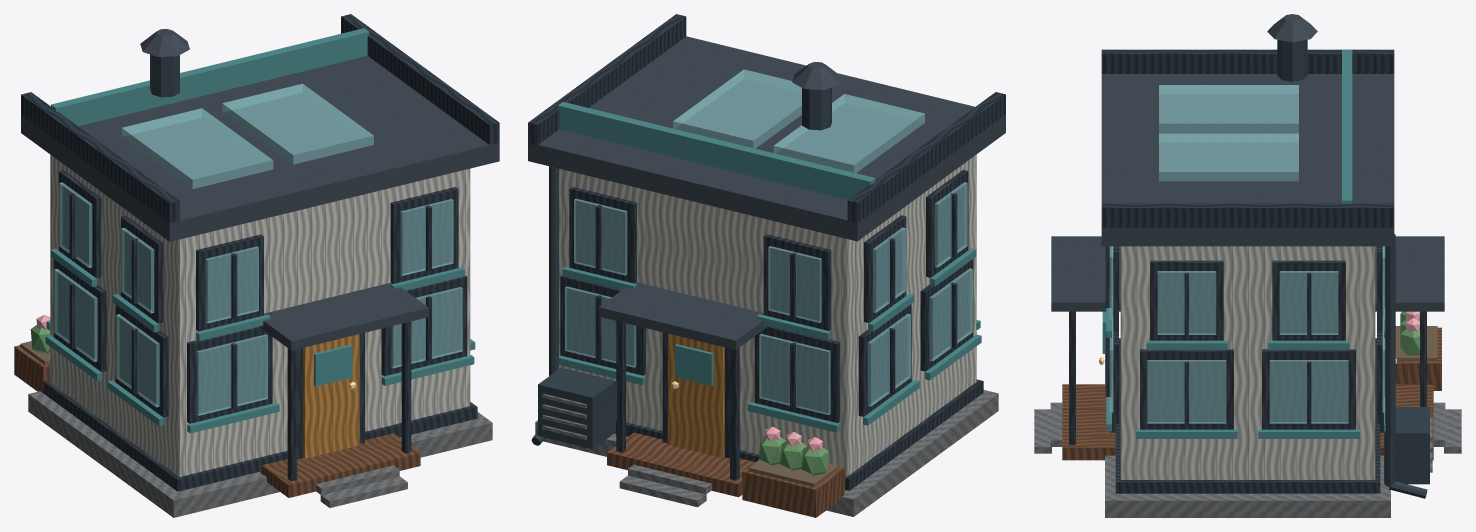
File: house_modern_lv2.glb
The picture shows the model from 3 angles, left to right: view 1: azimuth 30°, elevation 25°; view 2: azimuth 150°, elevation 25°; view 3: azimuth 270°, elevation 25°; orthographic projection.
Visible parts, largest first — view 1: flat_roof, walls, foundation, roof_terrace, solar_panel, solar_panel.001, front_porch_canopy, front_window_frame, front_window_frame.003, floor_trim, front_door, front_window_frame.002 (+33 smaller); view 2: flat_roof, walls, roof_terrace, solar_panel, solar_panel.001, back_window_frame, back_porch_canopy, foundation, back_window_frame.002, back_door, back_window_frame.003, parapet (+39 smaller); view 3: flat_roof, walls, foundation, parapet.001, right_window_frame, right_window_frame.001, solar_panel.001, solar_panel, parapet, right_window_frame.002, right_window_frame.003, right_window_glass (+29 smaller).
Part boxes in pixels (x1,y1,x2,y2): flat_roof: [21, 56, 499, 241]; walls: [50, 155, 470, 476]; foundation: [28, 391, 492, 517]; roof_terrace: [51, 28, 369, 126]; solar_panel: [121, 108, 273, 188]; solar_panel.001: [222, 83, 373, 164]; front_porch_canopy: [259, 282, 428, 350]; front_window_frame: [187, 326, 272, 423]; front_window_frame.003: [390, 187, 458, 283]; floor_trim: [43, 380, 477, 491]; front_door: [303, 334, 359, 458]; front_window_frame.002: [196, 234, 263, 331]; flat_roof: [528, 36, 1005, 241]; walls: [559, 154, 976, 476]; roof_terrace: [557, 102, 875, 199]; solar_panel: [773, 94, 924, 172]; solar_panel.001: [673, 69, 801, 148]; back_window_frame: [754, 326, 840, 422]; back_porch_canopy: [598, 282, 768, 349]; foundation: [535, 390, 998, 516]; back_window_frame.002: [763, 234, 831, 330]; back_door: [668, 333, 724, 457]; back_window_frame.003: [569, 186, 636, 283]; parapet: [847, 92, 1005, 225]; flat_roof: [1101, 74, 1394, 246]; walls: [1120, 246, 1375, 479]; foundation: [1105, 354, 1390, 517]; parapet.001: [1101, 203, 1394, 230]; right_window_frame: [1140, 349, 1233, 429]; right_window_frame.001: [1262, 349, 1355, 429]; solar_panel.001: [1159, 133, 1298, 181]; solar_panel: [1159, 85, 1298, 132]; parapet: [1101, 49, 1394, 73]; right_window_frame.002: [1150, 260, 1223, 340]; right_window_frame.003: [1272, 260, 1345, 340]; right_window_glass: [1147, 360, 1226, 423].
Size of the model in its own units: 2.95 by 3.37 by 3.36.
Materials: 13 (7 with a texture image).
